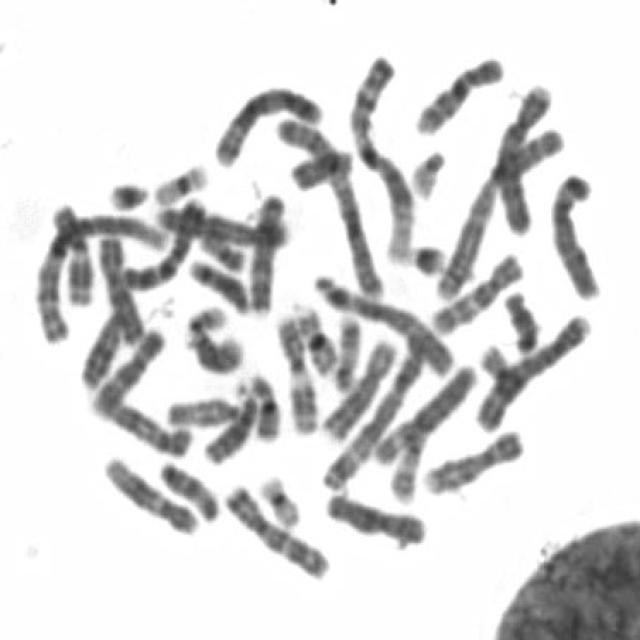A1: (28, 205, 171, 346), (345, 48, 417, 263)
A2: (429, 119, 568, 302), (268, 108, 388, 302)
A3: (317, 332, 428, 494), (311, 266, 459, 379)
B4: (469, 307, 595, 435), (490, 77, 557, 236)
B5: (209, 78, 326, 169), (150, 199, 294, 250)
C10: (424, 244, 528, 337), (409, 47, 508, 138)
C11: (270, 306, 321, 436), (45, 196, 96, 306)
C12: (96, 448, 202, 536), (93, 397, 192, 457)
C6: (368, 355, 480, 463), (544, 163, 607, 300)
C7: (218, 476, 334, 580), (115, 189, 208, 291)
C8: (316, 332, 400, 443), (244, 186, 290, 316)
C9: (417, 421, 528, 498), (85, 319, 168, 416)
D13: (196, 385, 262, 466), (75, 302, 134, 391)
D14: (182, 250, 255, 314), (184, 326, 242, 376)
D15: (153, 452, 223, 524), (161, 388, 247, 429)
E16: (288, 296, 342, 378), (240, 366, 284, 444)
E17: (391, 430, 435, 502), (329, 307, 365, 394)
E18: (284, 141, 356, 192), (498, 282, 542, 355)
F19: (252, 466, 305, 530), (148, 155, 212, 206)
F20: (194, 219, 247, 272), (475, 338, 524, 393)
G21: (101, 172, 152, 213), (403, 233, 449, 277)
G22: (404, 141, 449, 200), (179, 299, 229, 349)
X: (320, 483, 430, 548), (94, 228, 148, 346)
